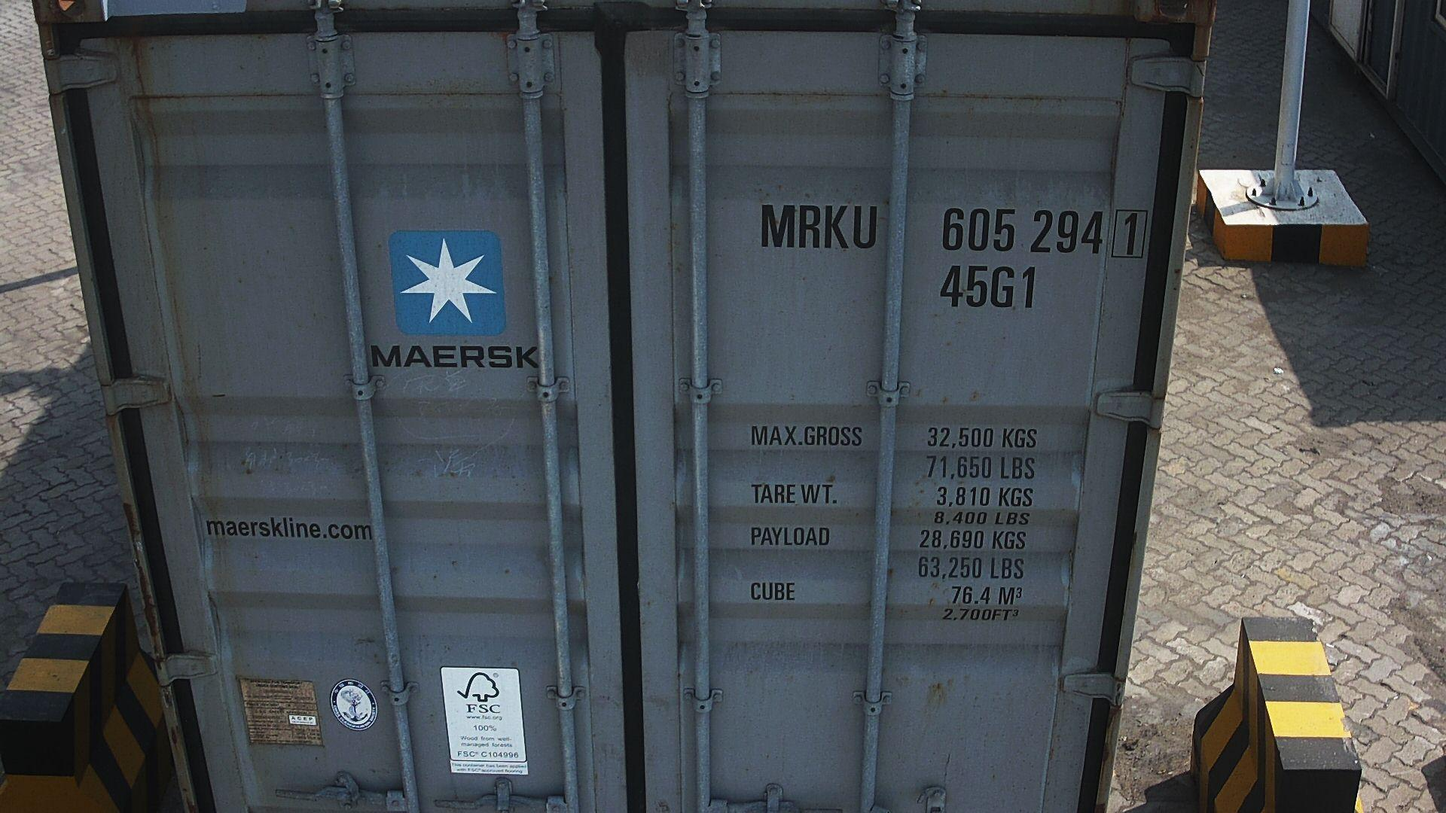container-numbers: (752, 200, 1156, 263), (936, 261, 1041, 312)
